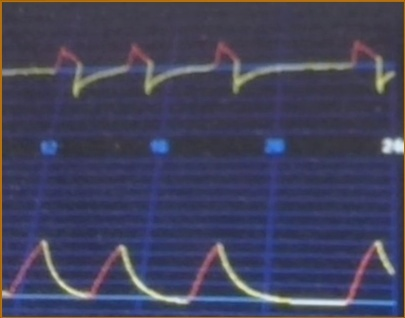Normal Flow: (3, 30, 394, 111)
Normal Volume: (3, 222, 395, 312)
